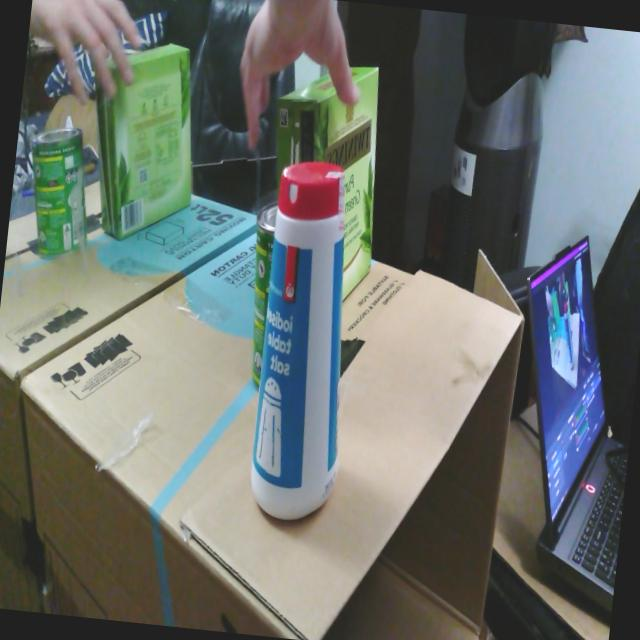nestle_milo_tin: (251, 201, 277, 390)
twinings_greentea_box: (276, 67, 378, 300)
woolworths_salt_bottle: (250, 162, 344, 519)
